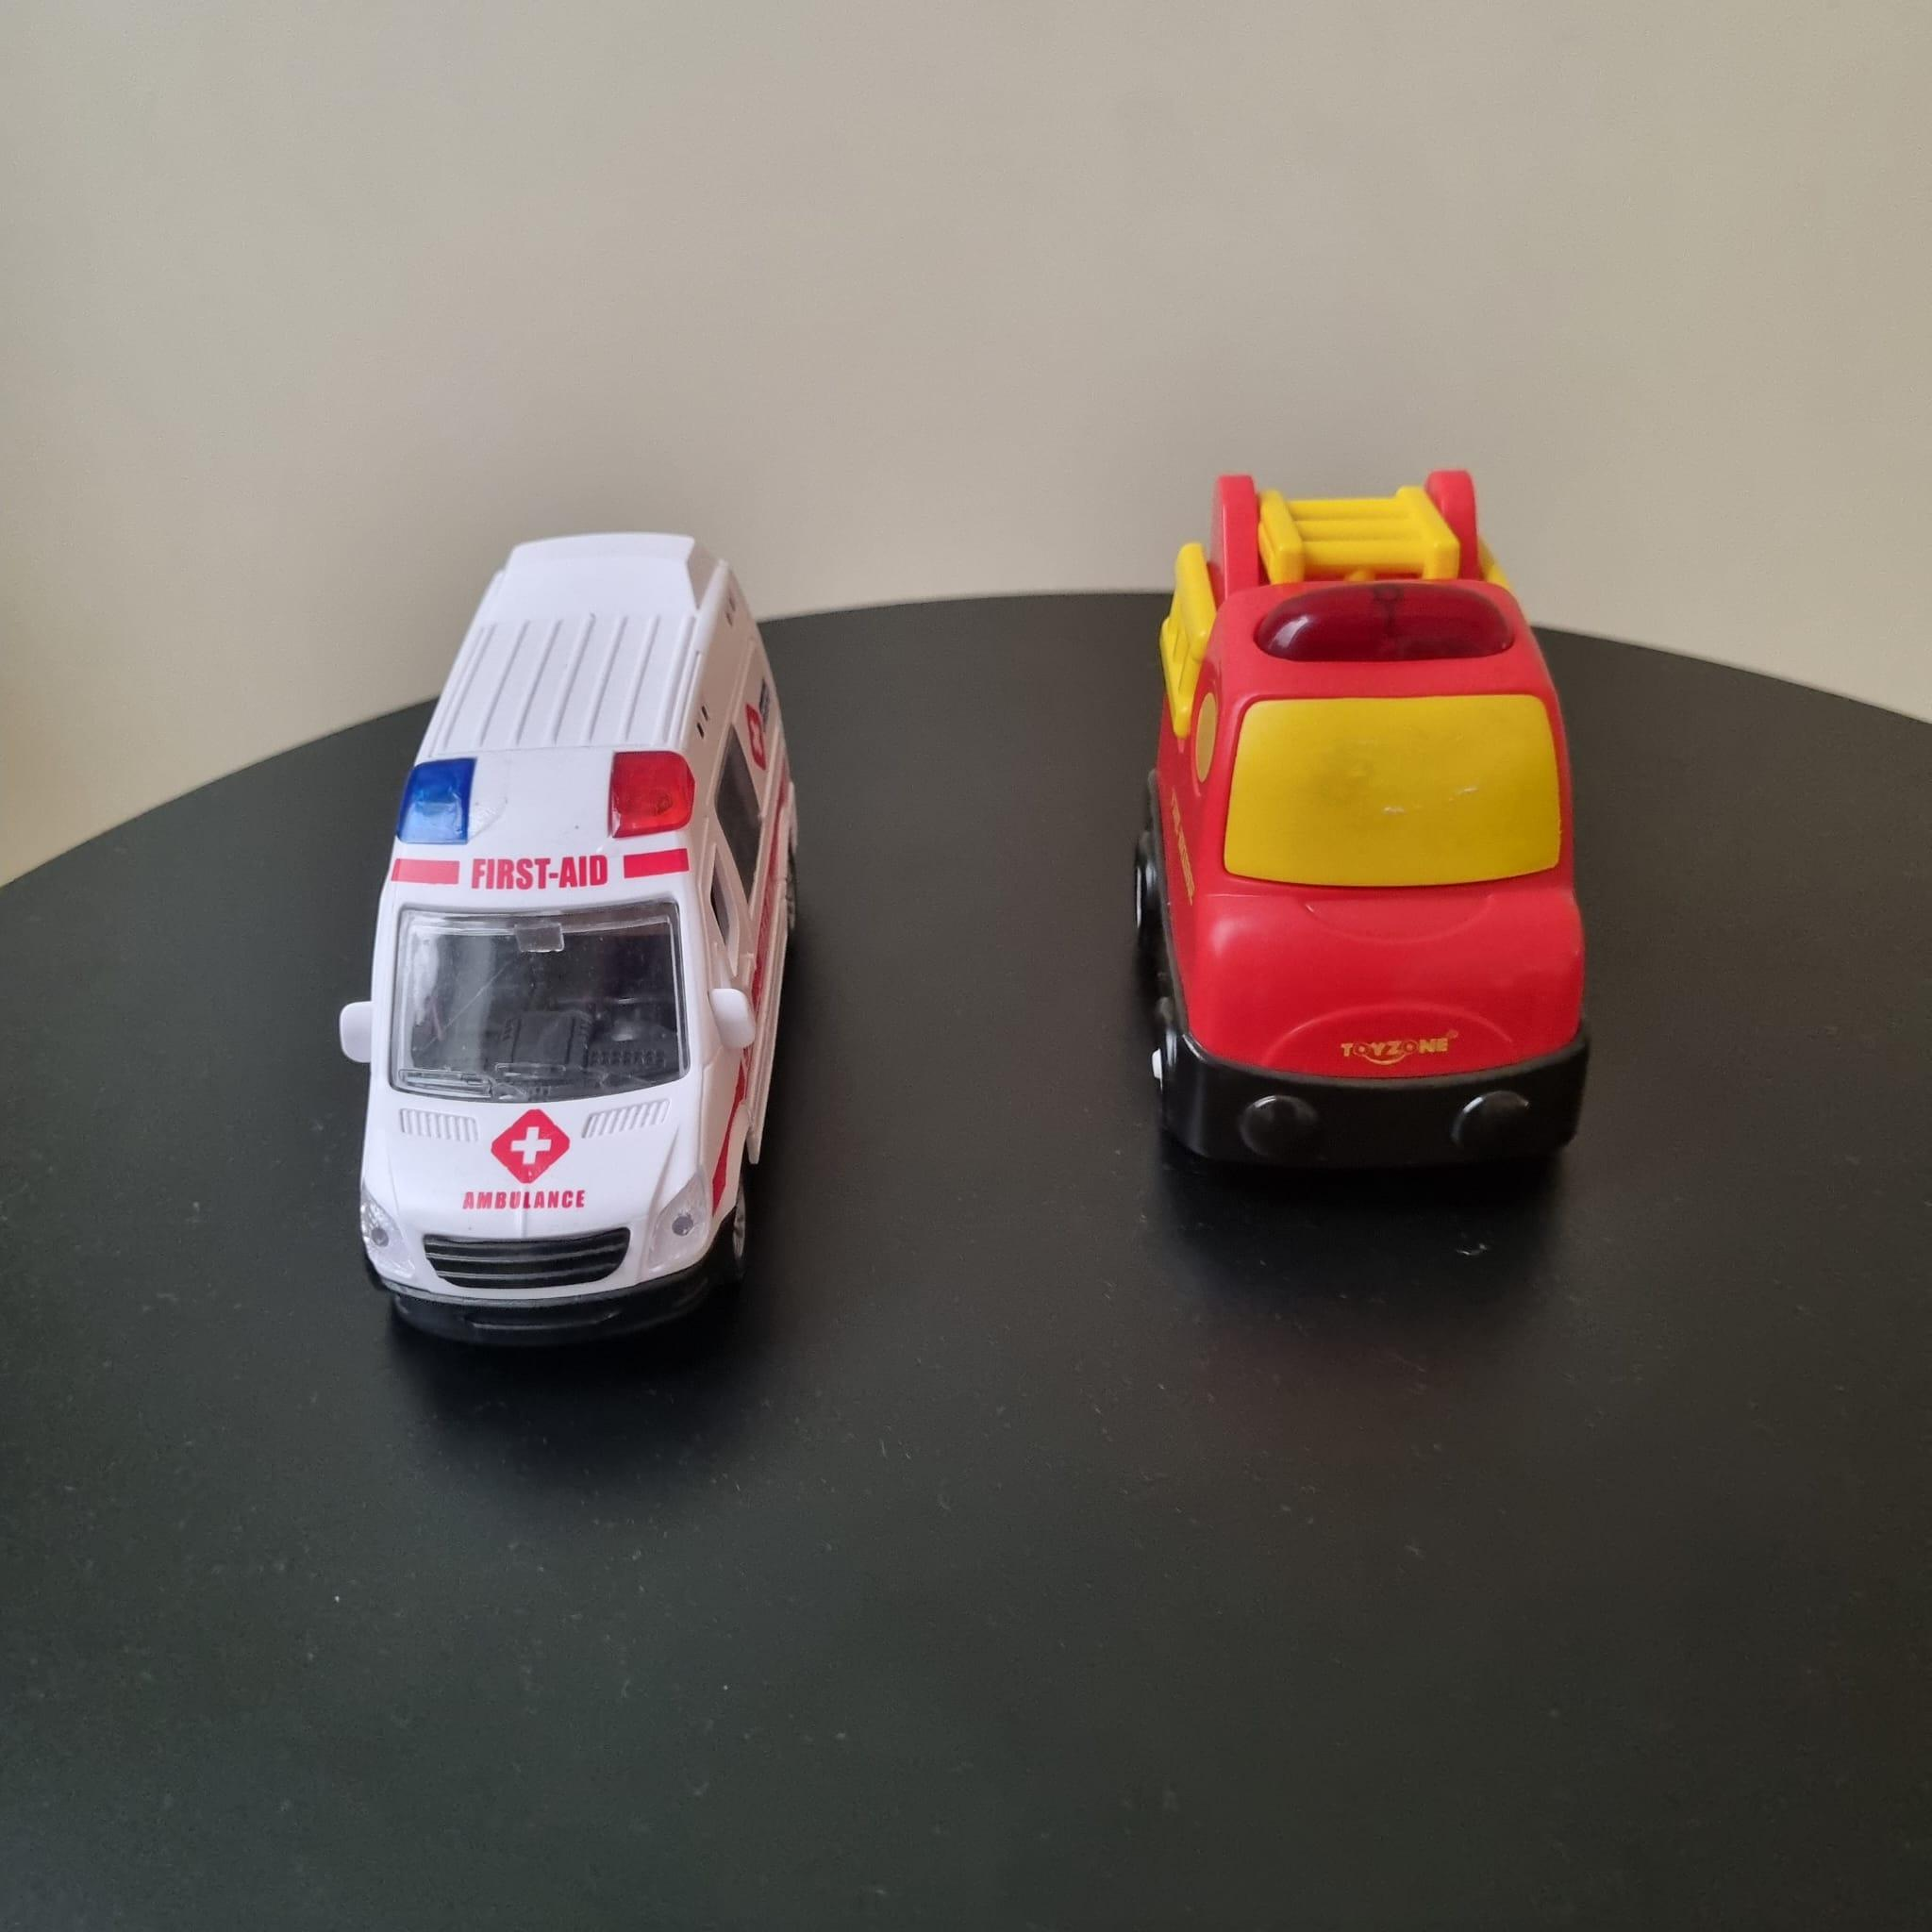ambulance_off: (340, 534, 810, 1375)
firetruck_off: (1123, 458, 1606, 1214)
